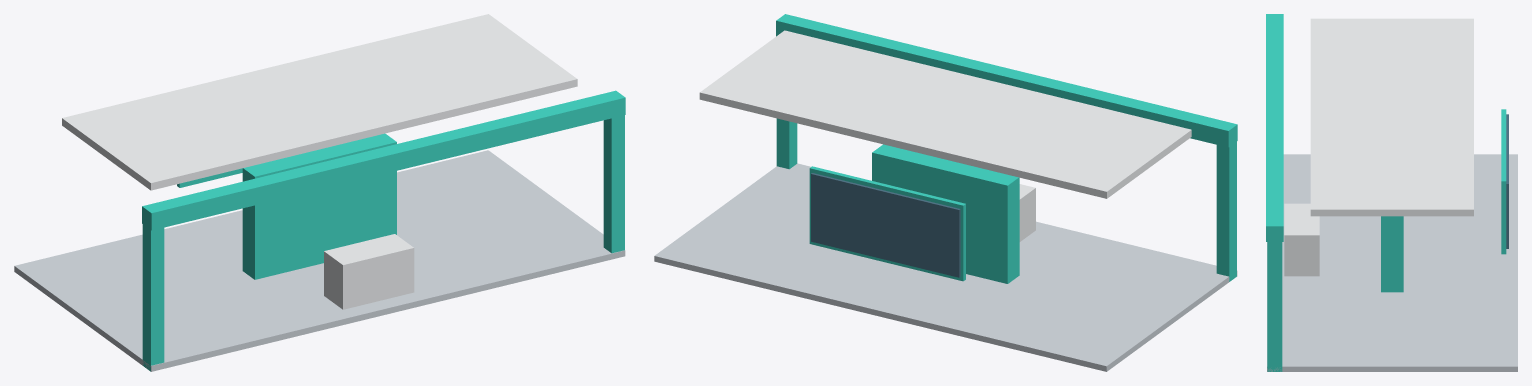
3 renders of one model, left to right at view 1: azimuth 30°, elevation 25°; view 2: azimuth 150°, elevation 25°; view 3: azimuth 270°, elevation 25°, orthographic. The views are drawn at different scales.
Visible parts, largest first — view 1: Exhibition Booth Concept; view 2: Exhibition Booth Concept; view 3: Exhibition Booth Concept.
Boxes of the visible parts, x1,y1,x2,y2 form: Exhibition Booth Concept: (14,14,625,371); Exhibition Booth Concept: (654,14,1237,371); Exhibition Booth Concept: (1266,14,1517,371).
Bounding box in the file's own units: 10 × 3.34 × 5.02.
